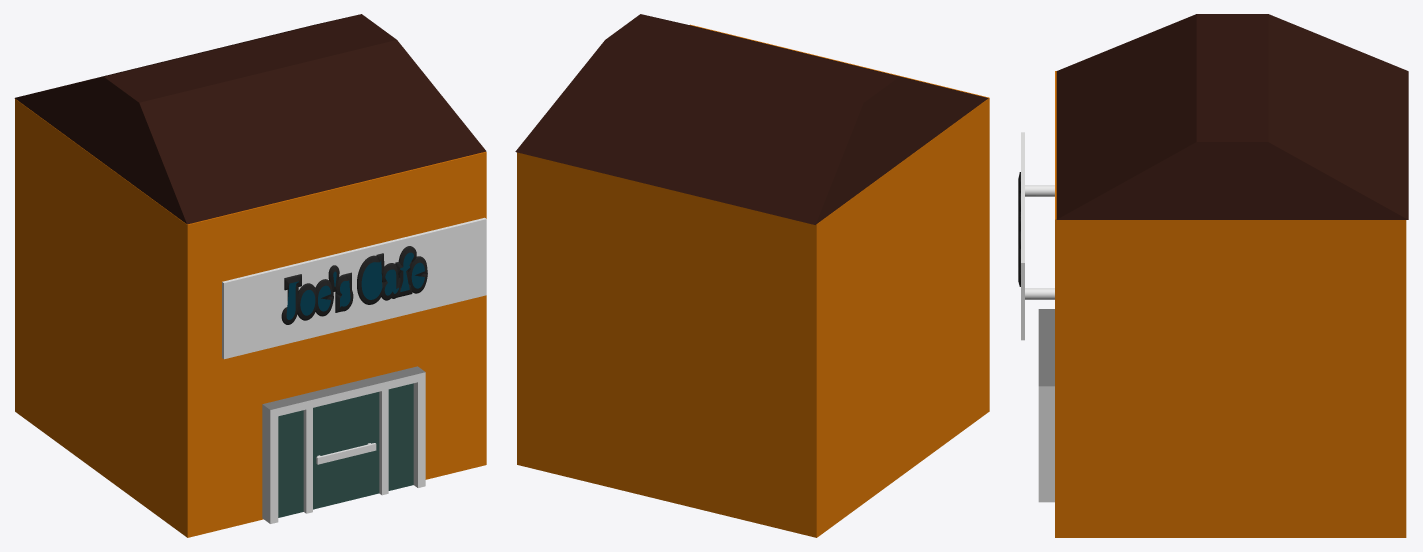
The model's file is building_Cafe.obj.
3 views of the same model, side by side, from view 1: azimuth 30°, elevation 25°; view 2: azimuth 150°, elevation 25°; view 3: azimuth 270°, elevation 25° (orthographic).
Visible parts, largest first — view 1: polySurface107; view 2: polySurface107; view 3: polySurface107.
Boxes of the visible parts, bbox=[...] form: polySurface107: bbox=[14, 14, 486, 537]; polySurface107: bbox=[515, 14, 989, 537]; polySurface107: bbox=[1018, 14, 1408, 537].
Bounding box in the file's own units: 5.76 × 6.96 × 6.38.
